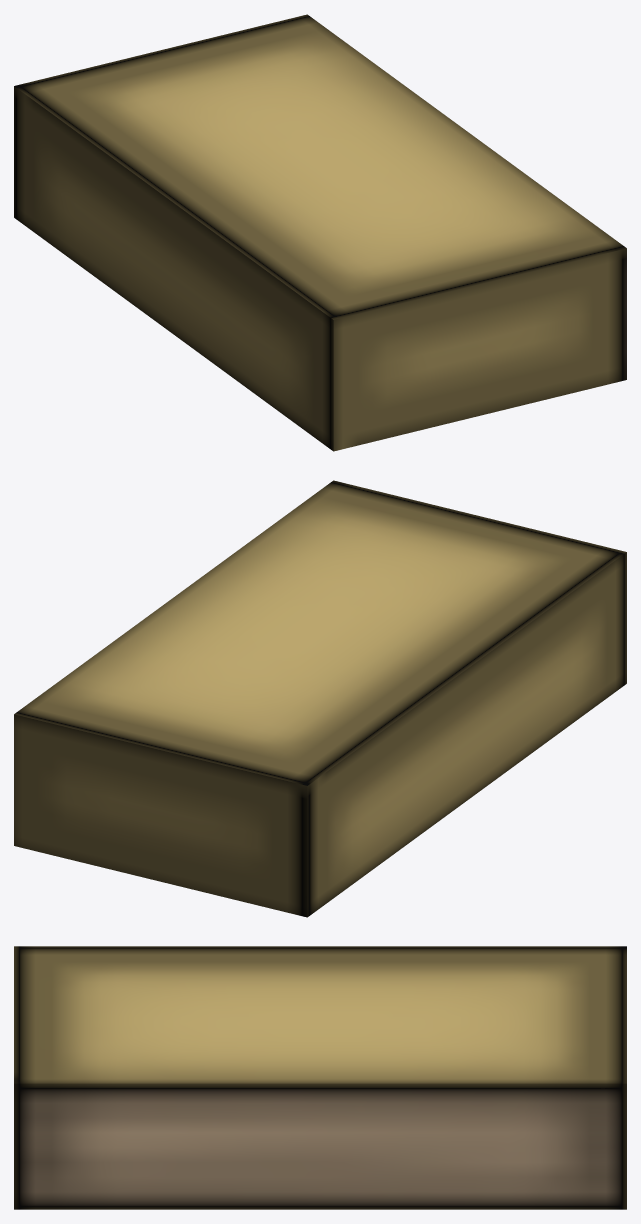
The model's file is Book1.fbx.
The picture shows the model from 3 angles, top to bottom: view 1: azimuth 30°, elevation 25°; view 2: azimuth 150°, elevation 25°; view 3: azimuth 270°, elevation 25°; orthographic projection. The views are drawn at different scales.
Parts seen in each view (by area): view 1: Cube.001; view 2: Cube.001; view 3: Cube.001.
Part boxes in pixels (box(x1,y1,x2,y2)): Cube.001: box(14, 14, 626, 451); Cube.001: box(14, 480, 626, 917); Cube.001: box(14, 946, 626, 1209).
Bounding box in the file's own units: 0.1593 × 0.0683 × 0.3003.
